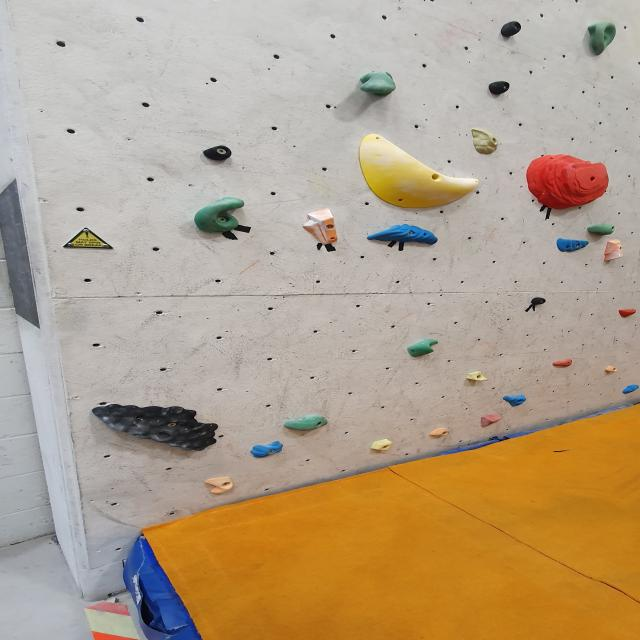Crimp: (365, 226, 442, 244), (200, 144, 238, 161), (554, 238, 590, 254), (251, 444, 286, 458), (464, 370, 494, 382), (551, 357, 578, 369), (614, 308, 640, 317), (622, 384, 640, 395), (604, 365, 622, 375)
Jug: (87, 400, 228, 456), (192, 197, 248, 235), (584, 21, 620, 56), (358, 73, 401, 99), (280, 415, 332, 431), (406, 339, 442, 358), (588, 222, 618, 235)
Pinch: (301, 207, 353, 249), (596, 238, 626, 263), (499, 19, 531, 39), (484, 80, 515, 96), (528, 295, 551, 307)
Sloper: (357, 136, 482, 208), (524, 157, 613, 211), (204, 477, 235, 496), (480, 414, 504, 427)
